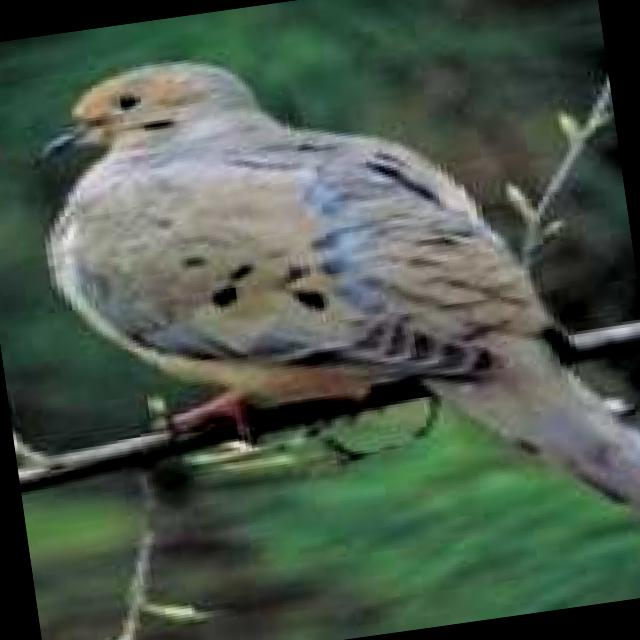bird: (15, 0, 640, 616)
